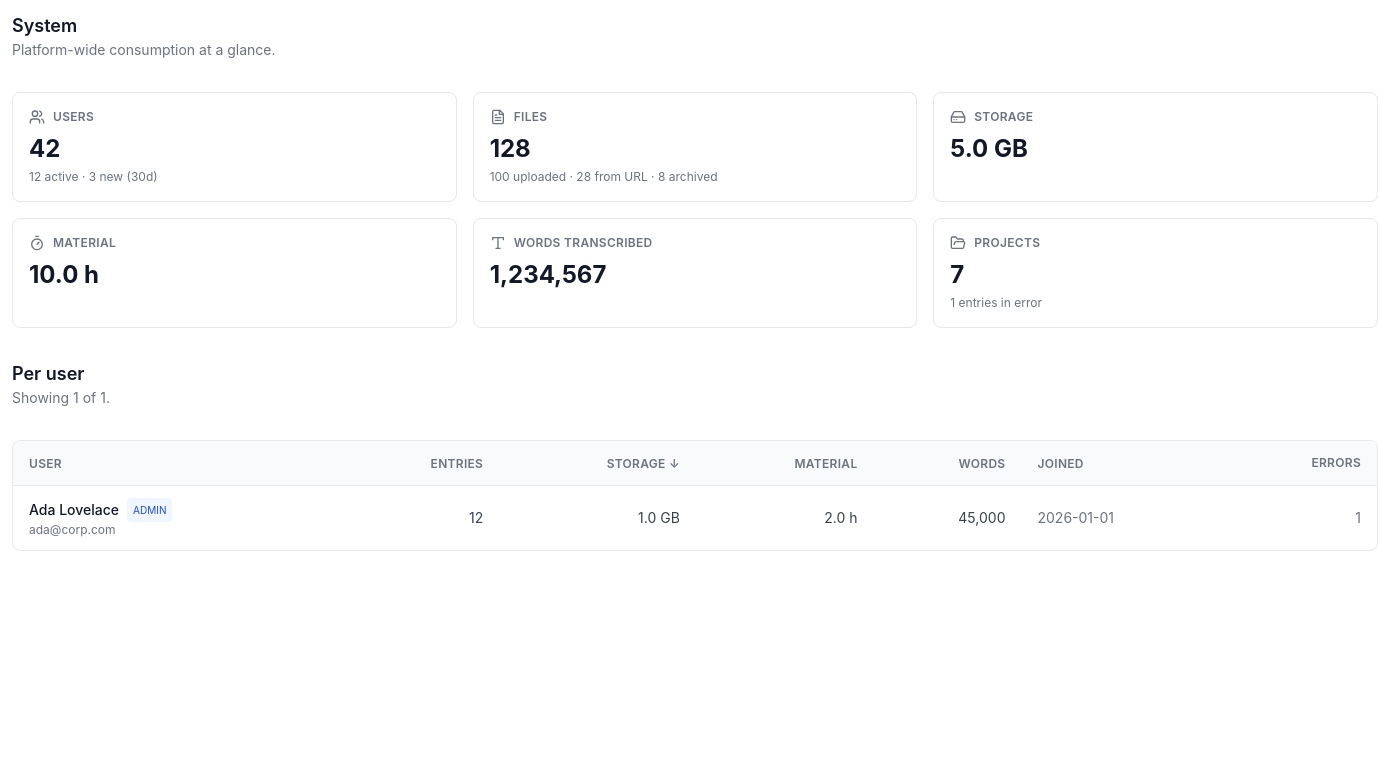
Test case: AdminDashboard › keeps the already-rendered cards when a refetch fails
This screenshot has width=1378, height=780.
Check: the text "42" is shown, box [29,134,60,163]
Click the button "Entries": point(457, 464) [431,456,483,472]
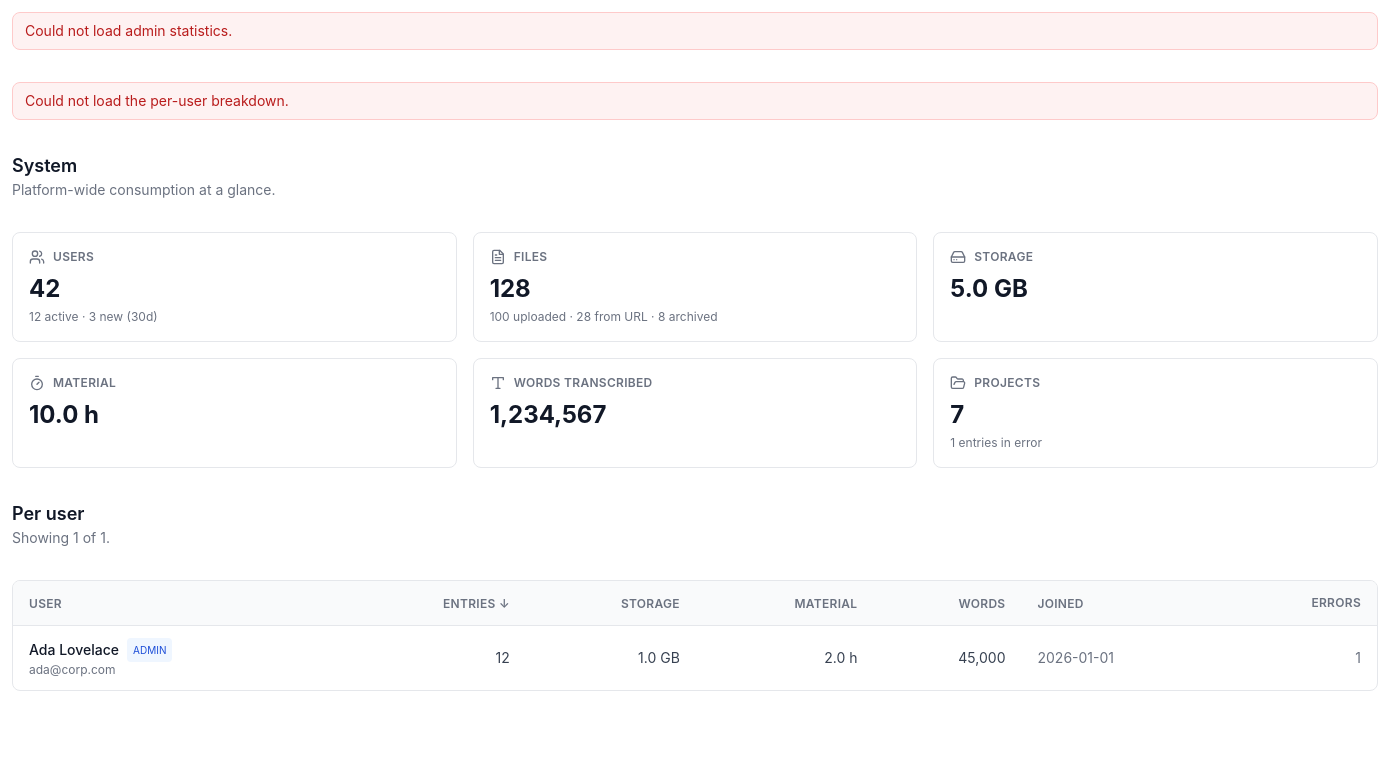
Check: the text "42" is shown, box [29,274,60,303]
Check: the text "Could not load admin statistics." is shown, box [12,12,1377,50]
